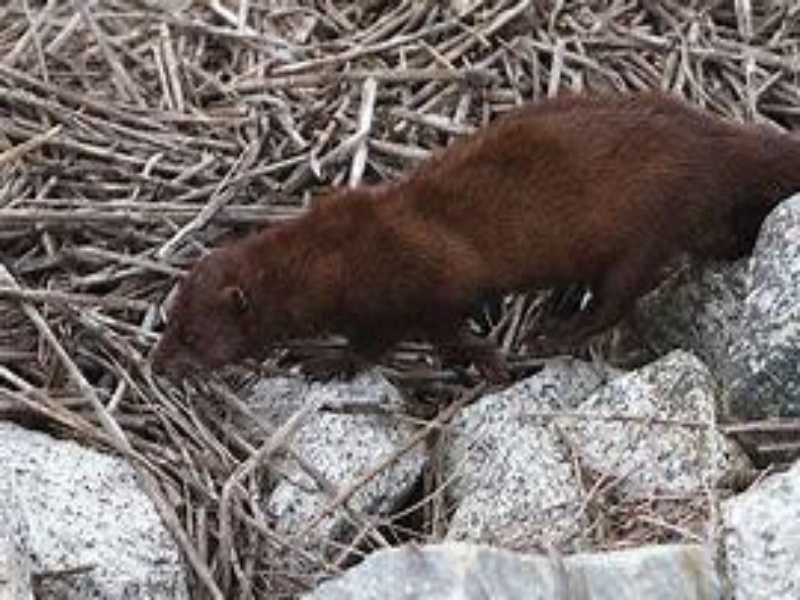minkish: (147, 84, 800, 409)
